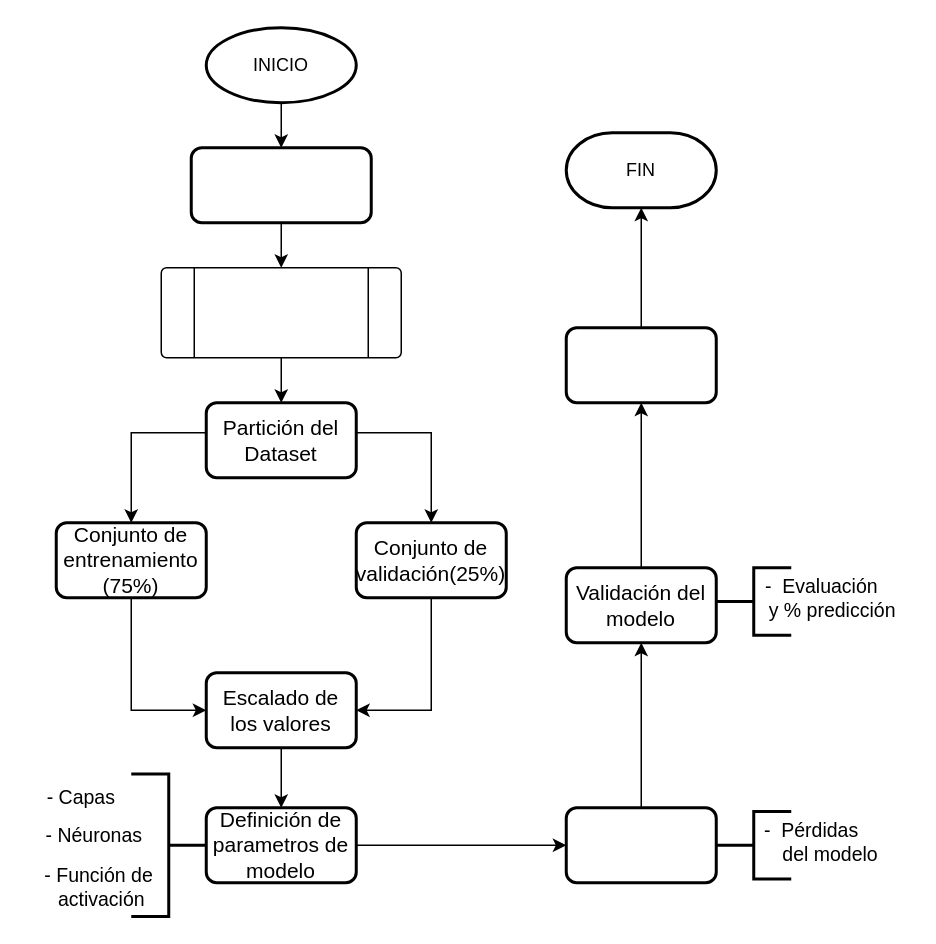
Image size: 936x944. Some labels were removed from this diagram. The shapes that lost their labels are listed below. From the top down, each one's box as (x1, y1, x2, y2) in pixels, then its label:
(189, 146, 372, 224): Carga del dataset en Jupyter
(160, 266, 401, 358): Procesamiento de los datos
(564, 326, 717, 404): Adquisión del modelo entrenado
(564, 806, 717, 884): Entrenamiento del modelo
